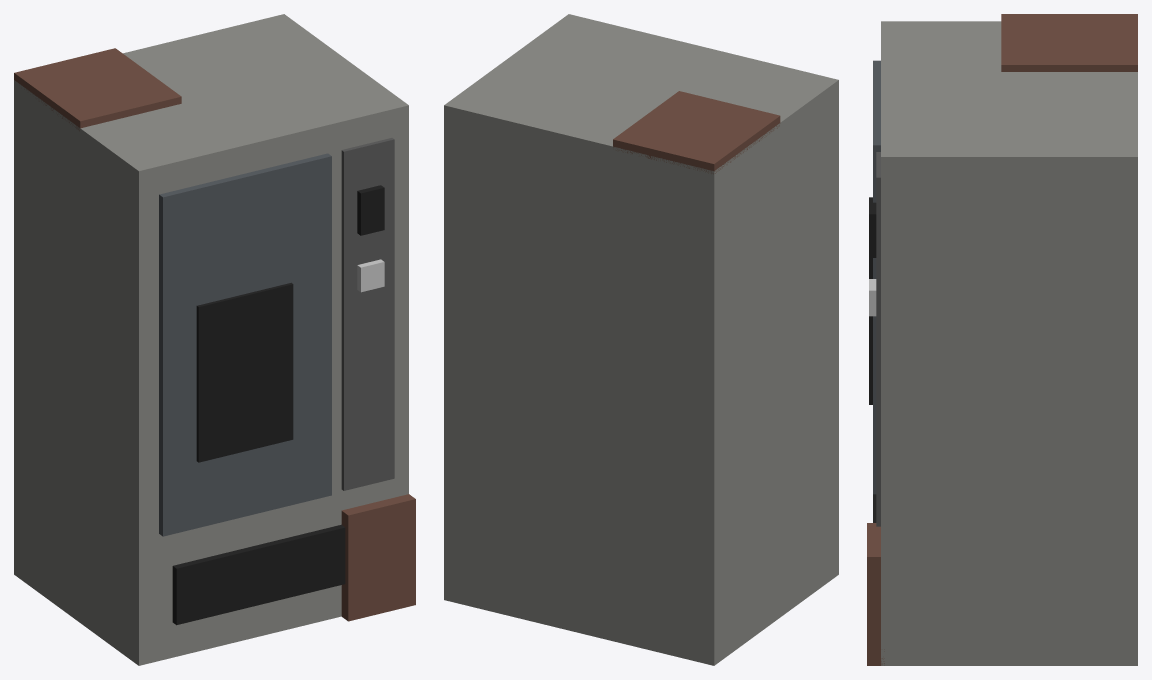
File: junk_vending_machine.obj
The picture shows the model from 3 angles, left to right: view 1: azimuth 30°, elevation 25°; view 2: azimuth 150°, elevation 25°; view 3: azimuth 270°, elevation 25°; orthographic projection. The views are drawn at different scales.
Visible parts, largest first — view 1: junk_vending_machine_0, junk_vending_machine_1, junk_vending_machine_3, junk_vending_machine_2, junk_vending_machine_6, junk_vending_machine_8, junk_vending_machine_7, junk_vending_machine_4, junk_vending_machine_5; view 2: junk_vending_machine_0, junk_vending_machine_7; view 3: junk_vending_machine_0, junk_vending_machine_7, junk_vending_machine_8, junk_vending_machine_3, junk_vending_machine_1, junk_vending_machine_2, junk_vending_machine_4.
Boxes of the visible parts, x1,y1,x2,y2 form: junk_vending_machine_0: (14, 14, 408, 665); junk_vending_machine_1: (159, 153, 331, 536); junk_vending_machine_3: (341, 138, 394, 490); junk_vending_machine_2: (196, 282, 293, 462); junk_vending_machine_6: (172, 524, 345, 625); junk_vending_machine_8: (341, 494, 415, 621); junk_vending_machine_7: (14, 48, 181, 131); junk_vending_machine_4: (357, 185, 384, 235); junk_vending_machine_5: (357, 259, 384, 292); junk_vending_machine_0: (444, 14, 838, 665); junk_vending_machine_7: (613, 91, 780, 174); junk_vending_machine_0: (881, 21, 1137, 665); junk_vending_machine_7: (1001, 14, 1137, 71); junk_vending_machine_8: (867, 523, 884, 665); junk_vending_machine_3: (876, 152, 880, 526); junk_vending_machine_1: (873, 60, 880, 494); junk_vending_machine_2: (869, 197, 872, 404); junk_vending_machine_4: (869, 202, 876, 257).
Bounding box in the file's own units: 0.8 × 1.42 × 0.675.
